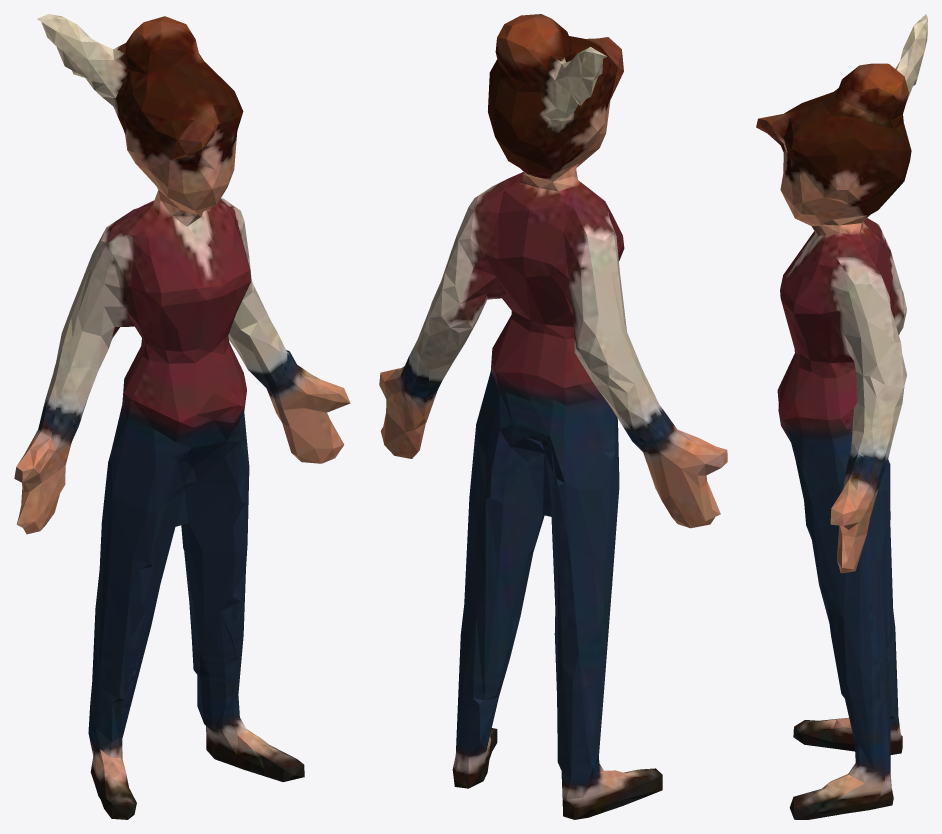
File: habitant-loin.glb
3 renders of one model, left to right at view 1: azimuth 30°, elevation 25°; view 2: azimuth 150°, elevation 25°; view 3: azimuth 270°, elevation 25°, orthographic. The views are drawn at different scales.
Visible parts, largest first — view 1: habitant; view 2: habitant; view 3: habitant.
Part boxes in pixels (bbox=[...]): habitant: bbox=[14, 14, 350, 819]; habitant: bbox=[379, 14, 727, 819]; habitant: bbox=[756, 14, 927, 819].
Bounding box in the file's own units: 0.4541 × 1 × 0.2168.
1 material, 1 textured.
